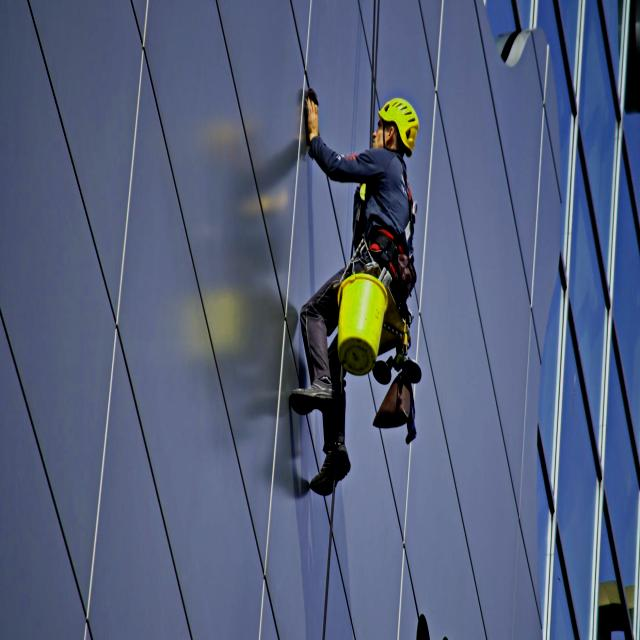hand_noglove: (303, 98, 321, 145)
head_helmet: (376, 96, 420, 156)
person: (288, 92, 415, 498)
shoes: (286, 374, 339, 422), (310, 441, 352, 500)
